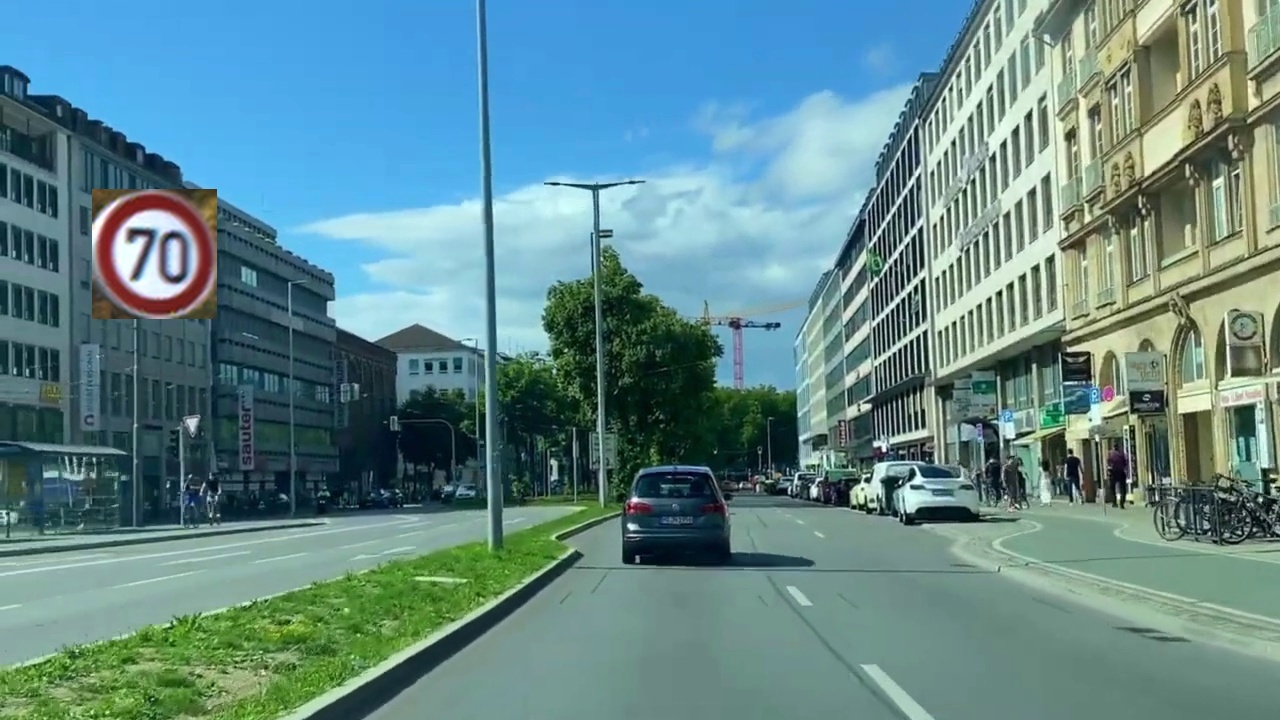Speed 70: (92, 189, 217, 319)
